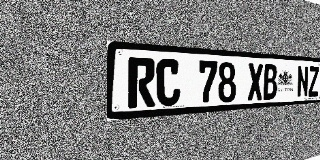7: (198, 61, 218, 104)
8: (218, 62, 236, 103)
B: (263, 64, 277, 100)
C: (156, 58, 180, 107)
N: (297, 65, 308, 98)
R: (128, 57, 155, 108)
X: (248, 63, 263, 101)
Z: (308, 66, 319, 97)
